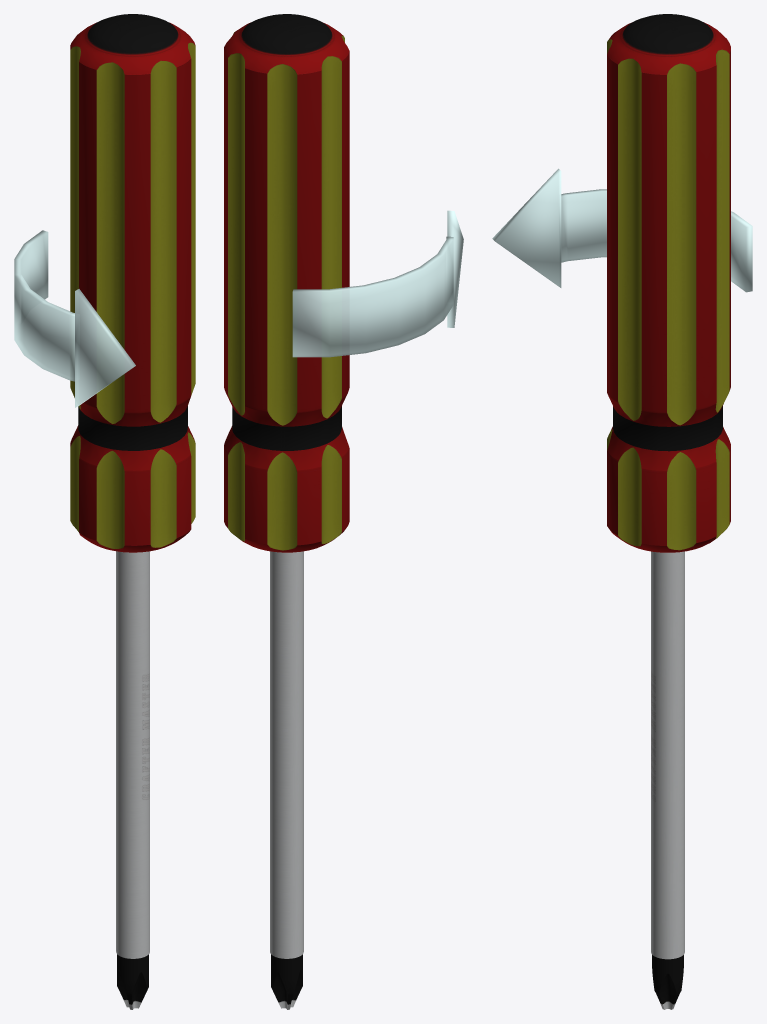
The model's file is Screwdriver.fbx.
3 renders of one model, left to right at view 1: azimuth 30°, elevation 25°; view 2: azimuth 150°, elevation 25°; view 3: azimuth 270°, elevation 25°, orthographic.
Visible parts, largest first — view 1: phillips_screwdriver_LP_Scene_Material_0, group_0_8768998; view 2: phillips_screwdriver_LP_Scene_Material_0, group_0_8768998; view 3: phillips_screwdriver_LP_Scene_Material_0, group_0_8768998.
Boxes of the visible parts, x1,y1,x2,y2 form: phillips_screwdriver_LP_Scene_Material_0: (70, 14, 195, 1009); group_0_8768998: (14, 230, 135, 407); phillips_screwdriver_LP_Scene_Material_0: (224, 14, 349, 1009); group_0_8768998: (292, 210, 463, 357); phillips_screwdriver_LP_Scene_Material_0: (607, 14, 730, 1009); group_0_8768998: (492, 168, 752, 292).
Size of the model in its own units: 2.86 by 15.11 by 3.63.
Materials: 2 (1 with a texture image).
